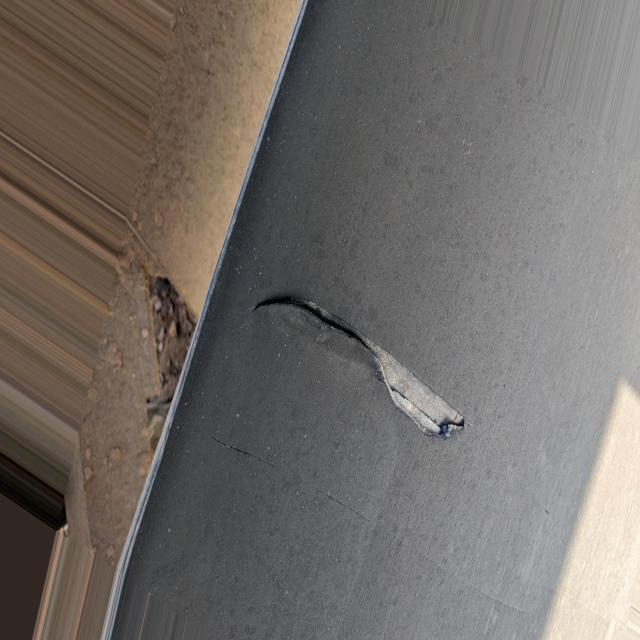Tear: (251, 297, 464, 436)
